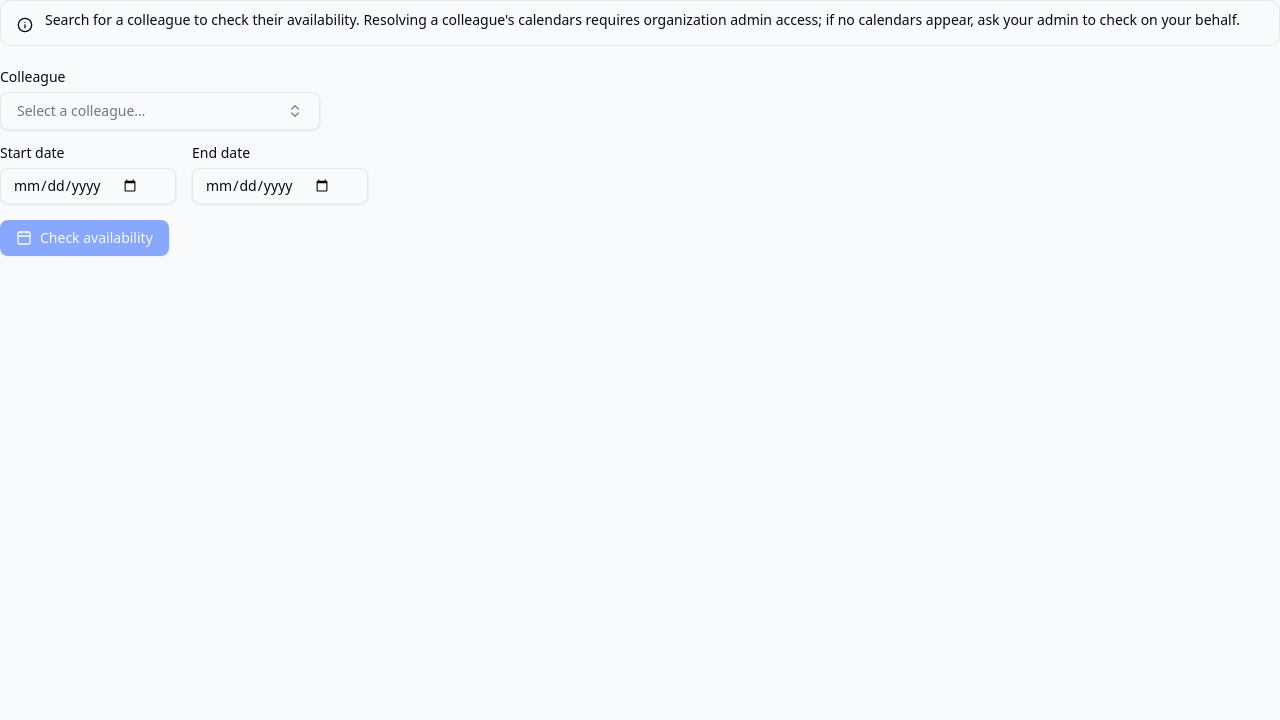
Scenario: UserAvailabilityView › renders free windows as "Free" after submitting
The image size is (1280, 720).
Step 1. Click the dropdown labelled "Select a colleague…" → click(81, 110), box [0,92,320,130]
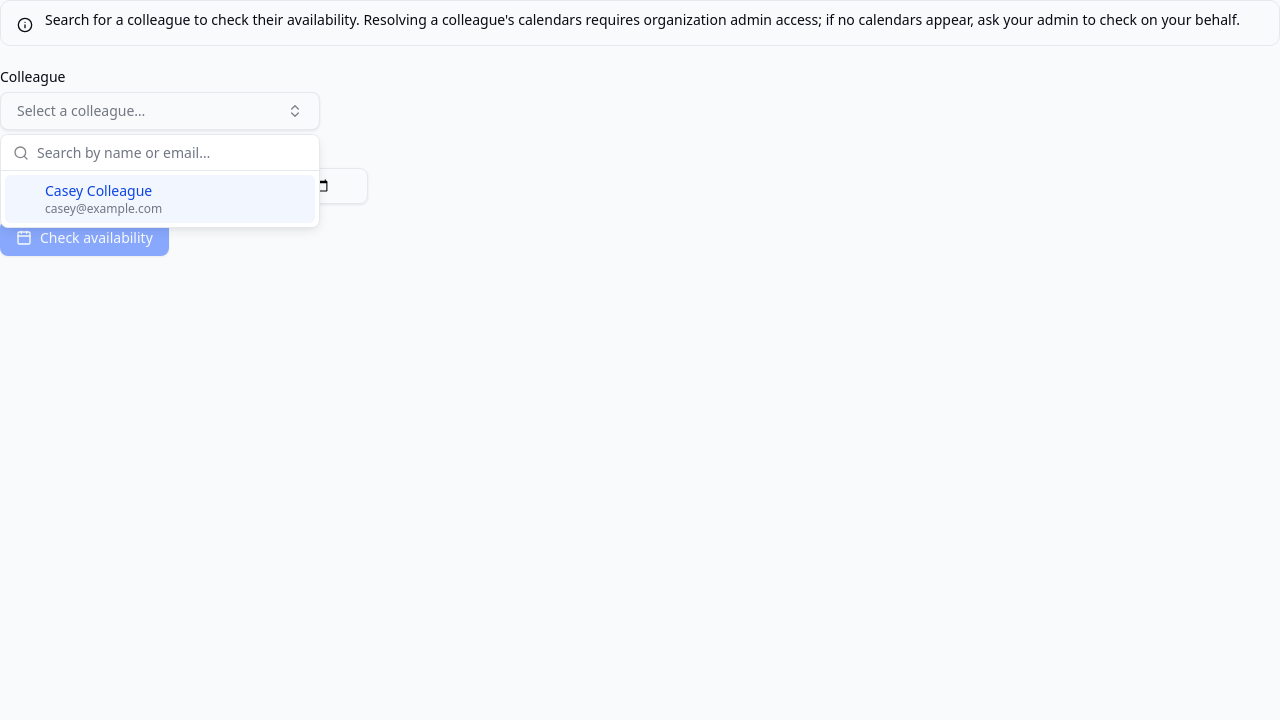
Step 2. Click the text "Casey Colleague" → click(104, 191), box [45,181,162,201]
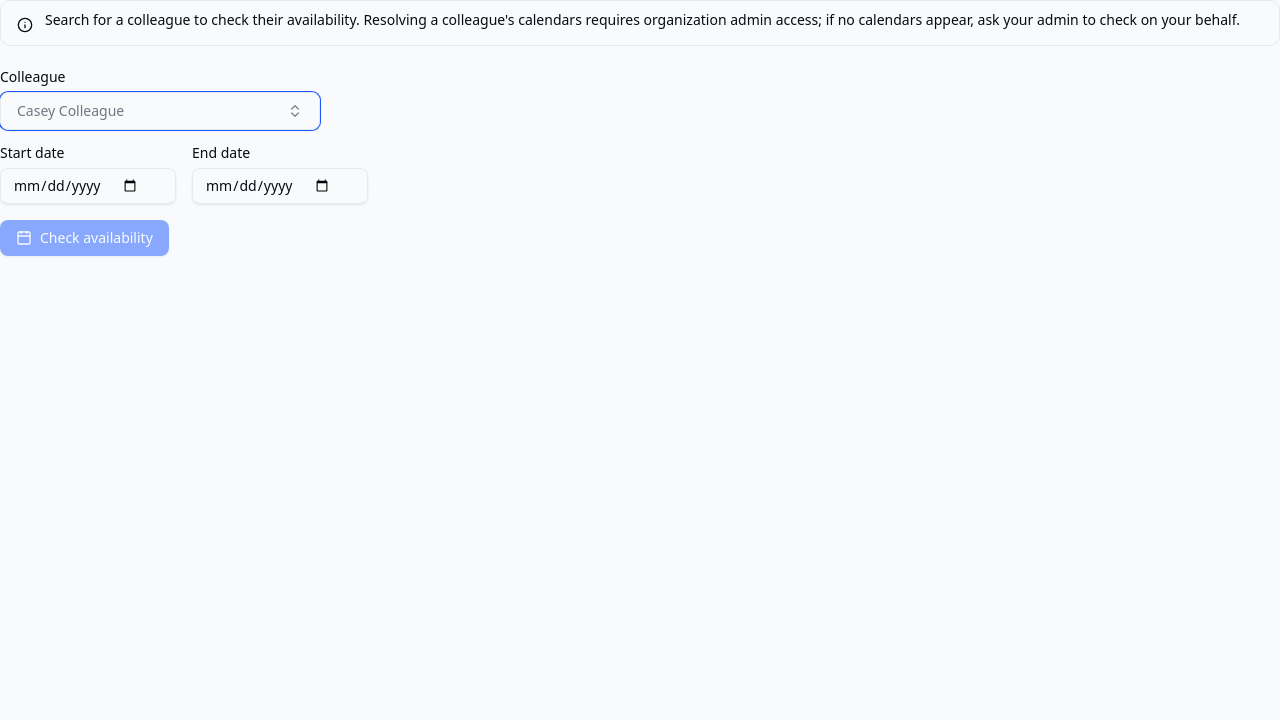
Step 3. Type "2025-06-01" into the date field labelled "Start date" → (88, 186), box [0,168,176,204]
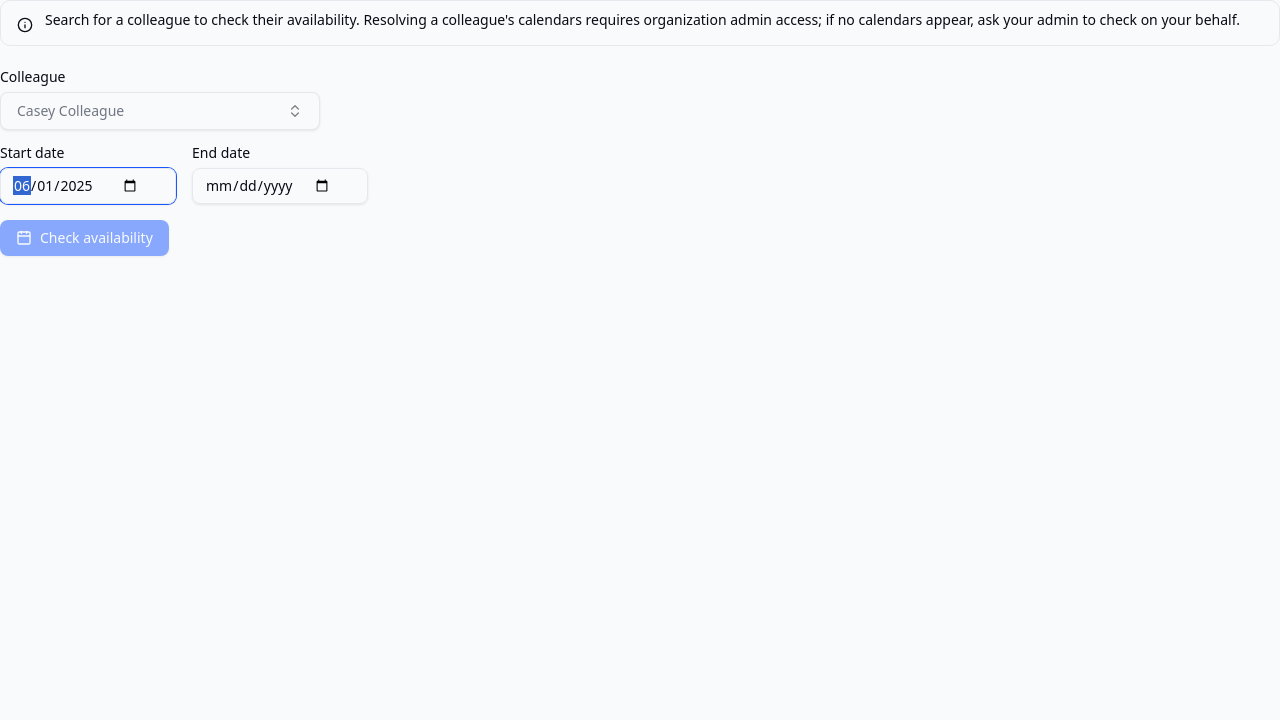
Step 4. Type "2025-06-07" into the date field labelled "End date" → (280, 186), box [192,168,368,204]
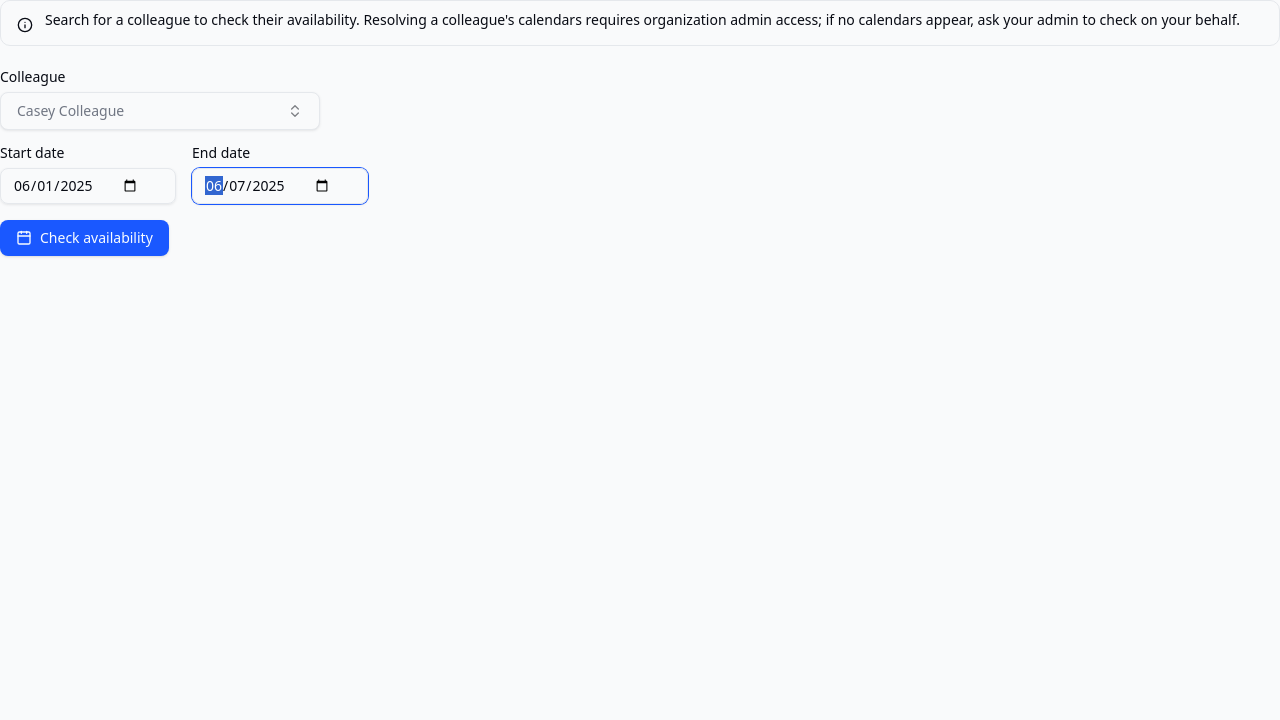
Step 5. Click the button "Check availability" → click(84, 238), box [0,220,169,256]
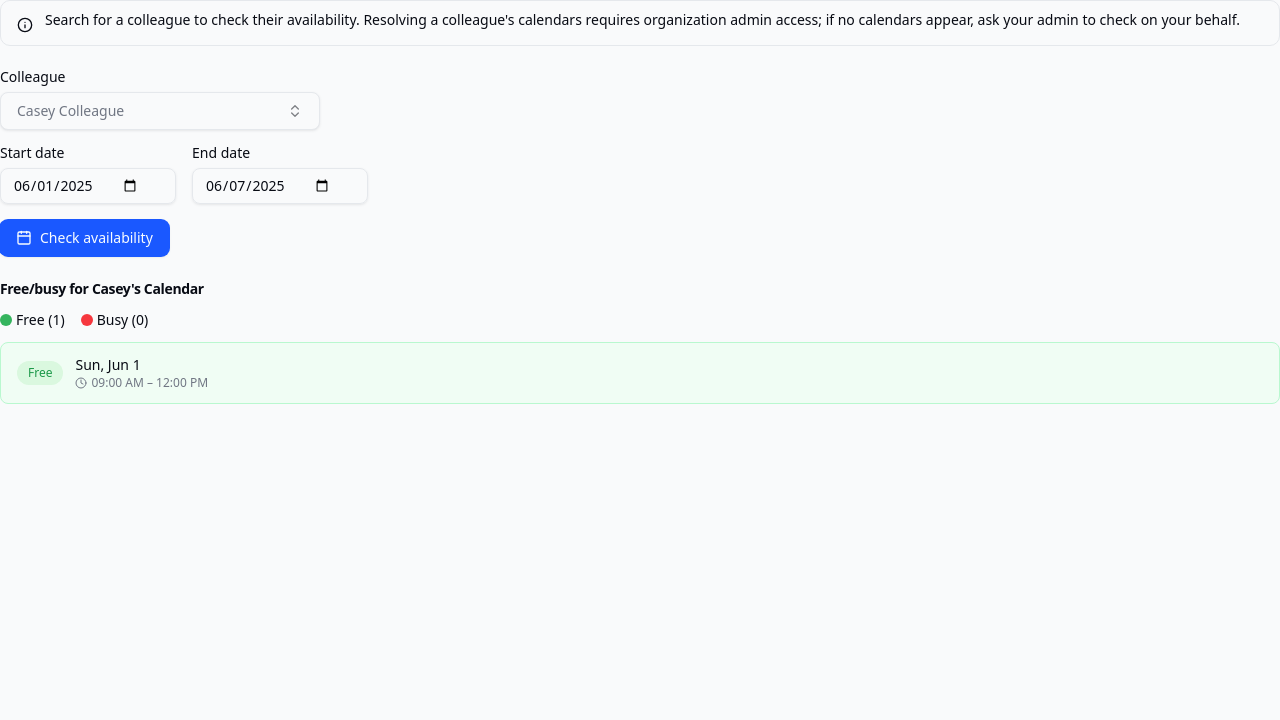
Result: the text "Free" is shown at [17,360,64,384]
